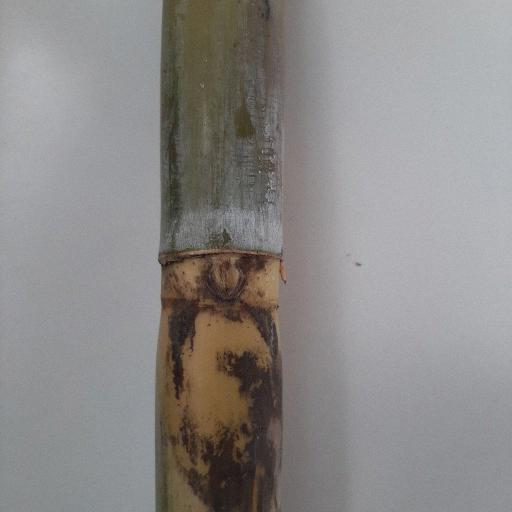Bud: (201, 258, 248, 301)
